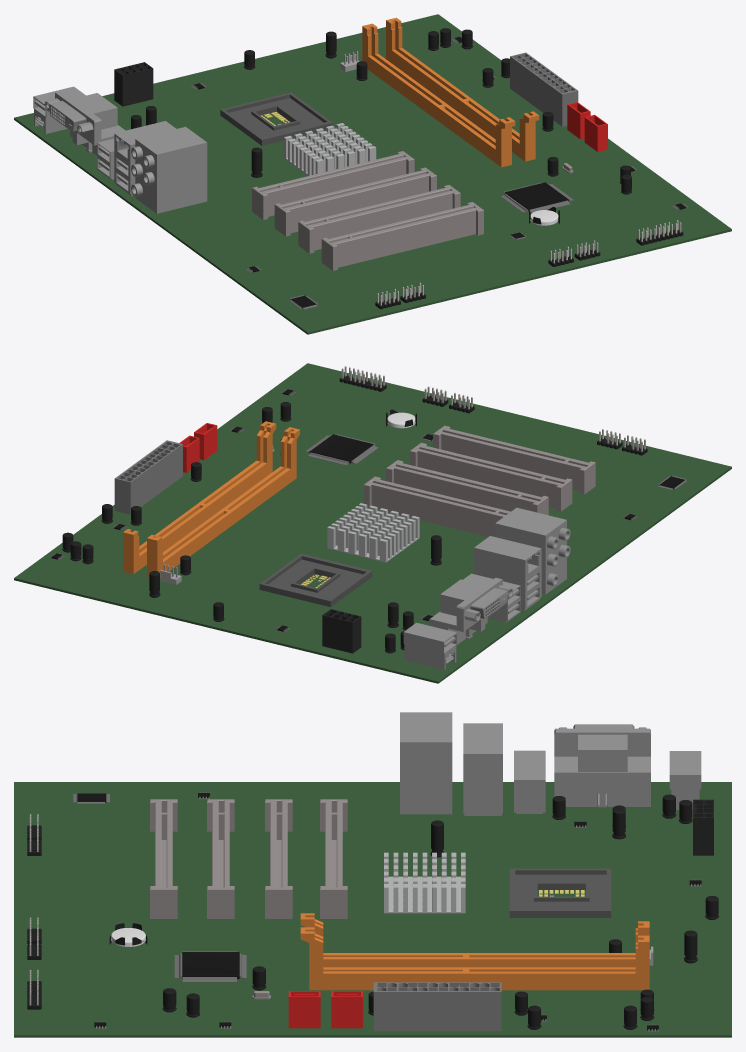
Rendered from MotherboardLGA1155B.fbx.
3 views of the same model, one above another, from view 1: azimuth 30°, elevation 25°; view 2: azimuth 150°, elevation 25°; view 3: azimuth 270°, elevation 25° (orthographic). The views are drawn at different scales.
Visible parts, largest first — view 1: Plane, PCI.003, SOUND, RAM, RAM.001, PCI.001, PCI.002, PCI.004, HeatSink.001, CPU.002, POWER, DISPLAY (+7 smaller); view 2: Plane, RAM, PCI.004, RAM.001, PCI.002, PCI.003, HeatSink.001, PCI.001, CPU.002, USB30, POWER, DISPLAY (+7 smaller); view 3: Plane, RAM.001, DISPLAY, POWER, SOUND, RAM, CPU.002, HeatSink.001, USB30, PCI.004, PCI.001, PCI.002 (+7 smaller).
Boxes of the visible parts, left/top/right/bottom form: Plane: left=14, top=14, right=731, bottom=334; PCI.003: left=321, top=202, right=483, bottom=270; SOUND: left=135, top=126, right=207, bottom=213; RAM: left=362, top=23, right=515, bottom=167; RAM.001: left=386, top=17, right=539, bottom=161; PCI.001: left=274, top=167, right=436, bottom=236; PCI.002: left=298, top=185, right=460, bottom=253; PCI.004: left=252, top=151, right=414, bottom=219; HeatSink.001: left=284, top=123, right=376, bottom=175; CPU.002: left=220, top=92, right=332, bottom=145; POWER: left=510, top=52, right=578, bottom=126; DISPLAY: left=44, top=91, right=125, bottom=155; Plane: left=14, top=363, right=731, bottom=683; RAM: left=147, top=427, right=299, bottom=577; PCI.004: left=363, top=476, right=510, bottom=536; RAM.001: left=123, top=421, right=276, bottom=574; PCI.002: left=409, top=442, right=572, bottom=511; PCI.003: left=433, top=425, right=595, bottom=494; HeatSink.001: left=327, top=503, right=419, bottom=562; PCI.001: left=386, top=460, right=548, bottom=515; CPU.002: left=259, top=553, right=372, bottom=606; USB30: left=474, top=536, right=541, bottom=610; POWER: left=114, top=440, right=182, bottom=514; DISPLAY: left=429, top=577, right=513, bottom=645; Plane: left=14, top=782, right=731, bottom=1037; RAM.001: left=300, top=927, right=649, bottom=990; DISPLAY: left=554, top=724, right=650, bottom=807; POWER: left=373, top=982, right=501, bottom=1031; SOUND: left=400, top=712, right=452, bottom=814; RAM: left=300, top=913, right=649, bottom=967; CPU.002: left=509, top=868, right=611, bottom=917; HeatSink.001: left=384, top=852, right=465, bottom=913; USB30: left=463, top=723, right=502, bottom=815; PCI.004: left=320, top=799, right=347, bottom=918; PCI.001: left=265, top=799, right=292, bottom=918; PCI.002: left=207, top=799, right=234, bottom=918.
Size of the model in its own units: 760 by 107 by 901.
